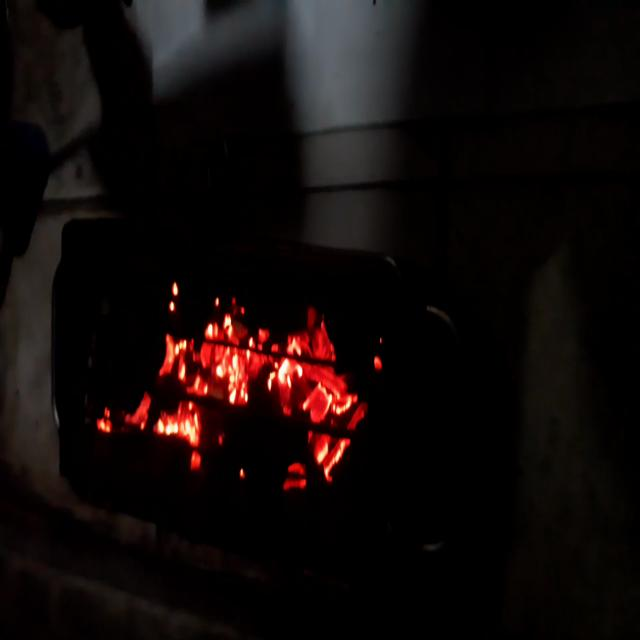Fire: (89, 249, 393, 517)
